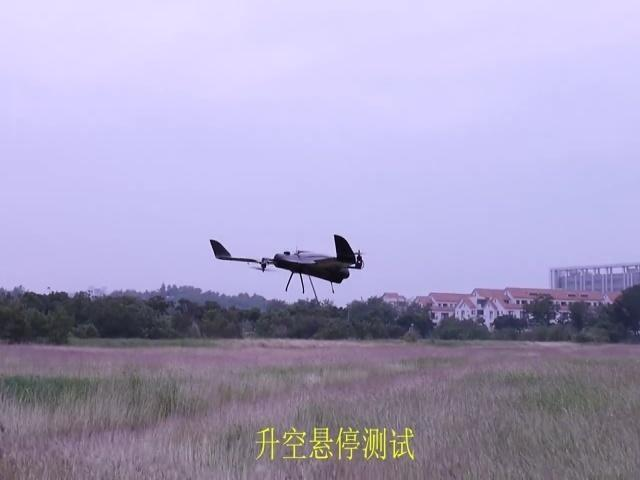Airplane: (209, 234, 364, 305)
